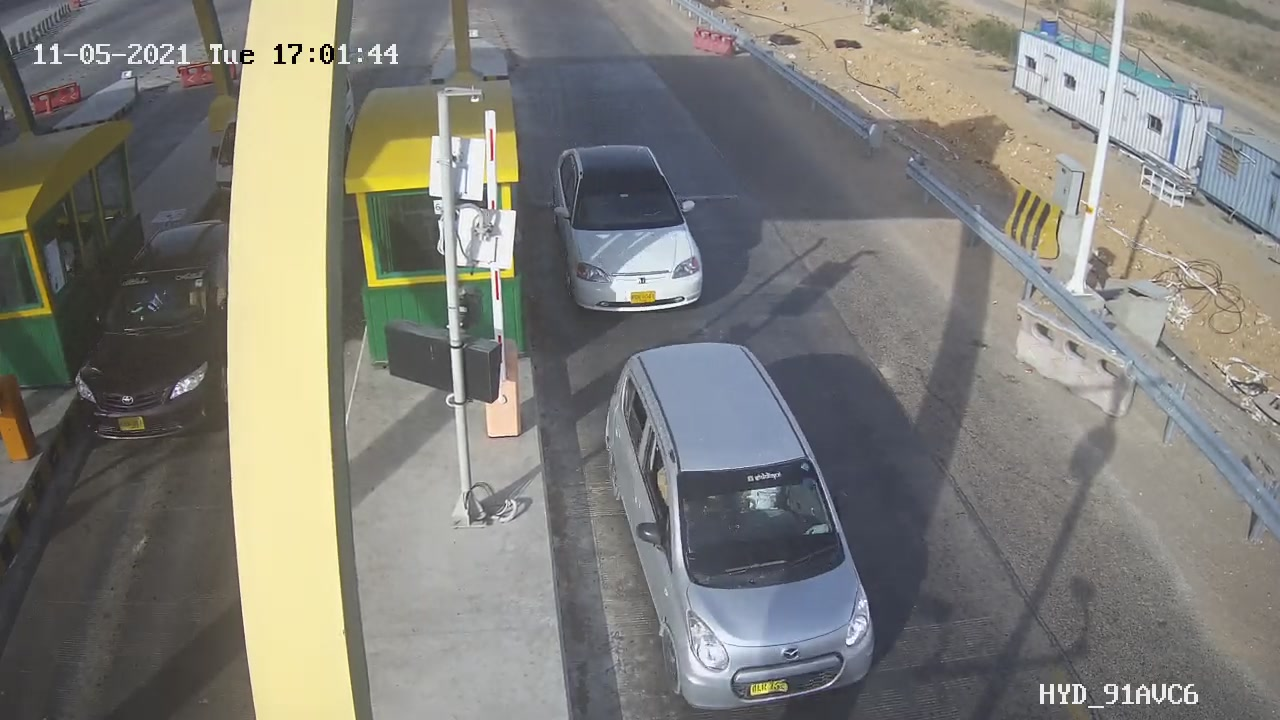F1: (538, 122, 724, 329)
